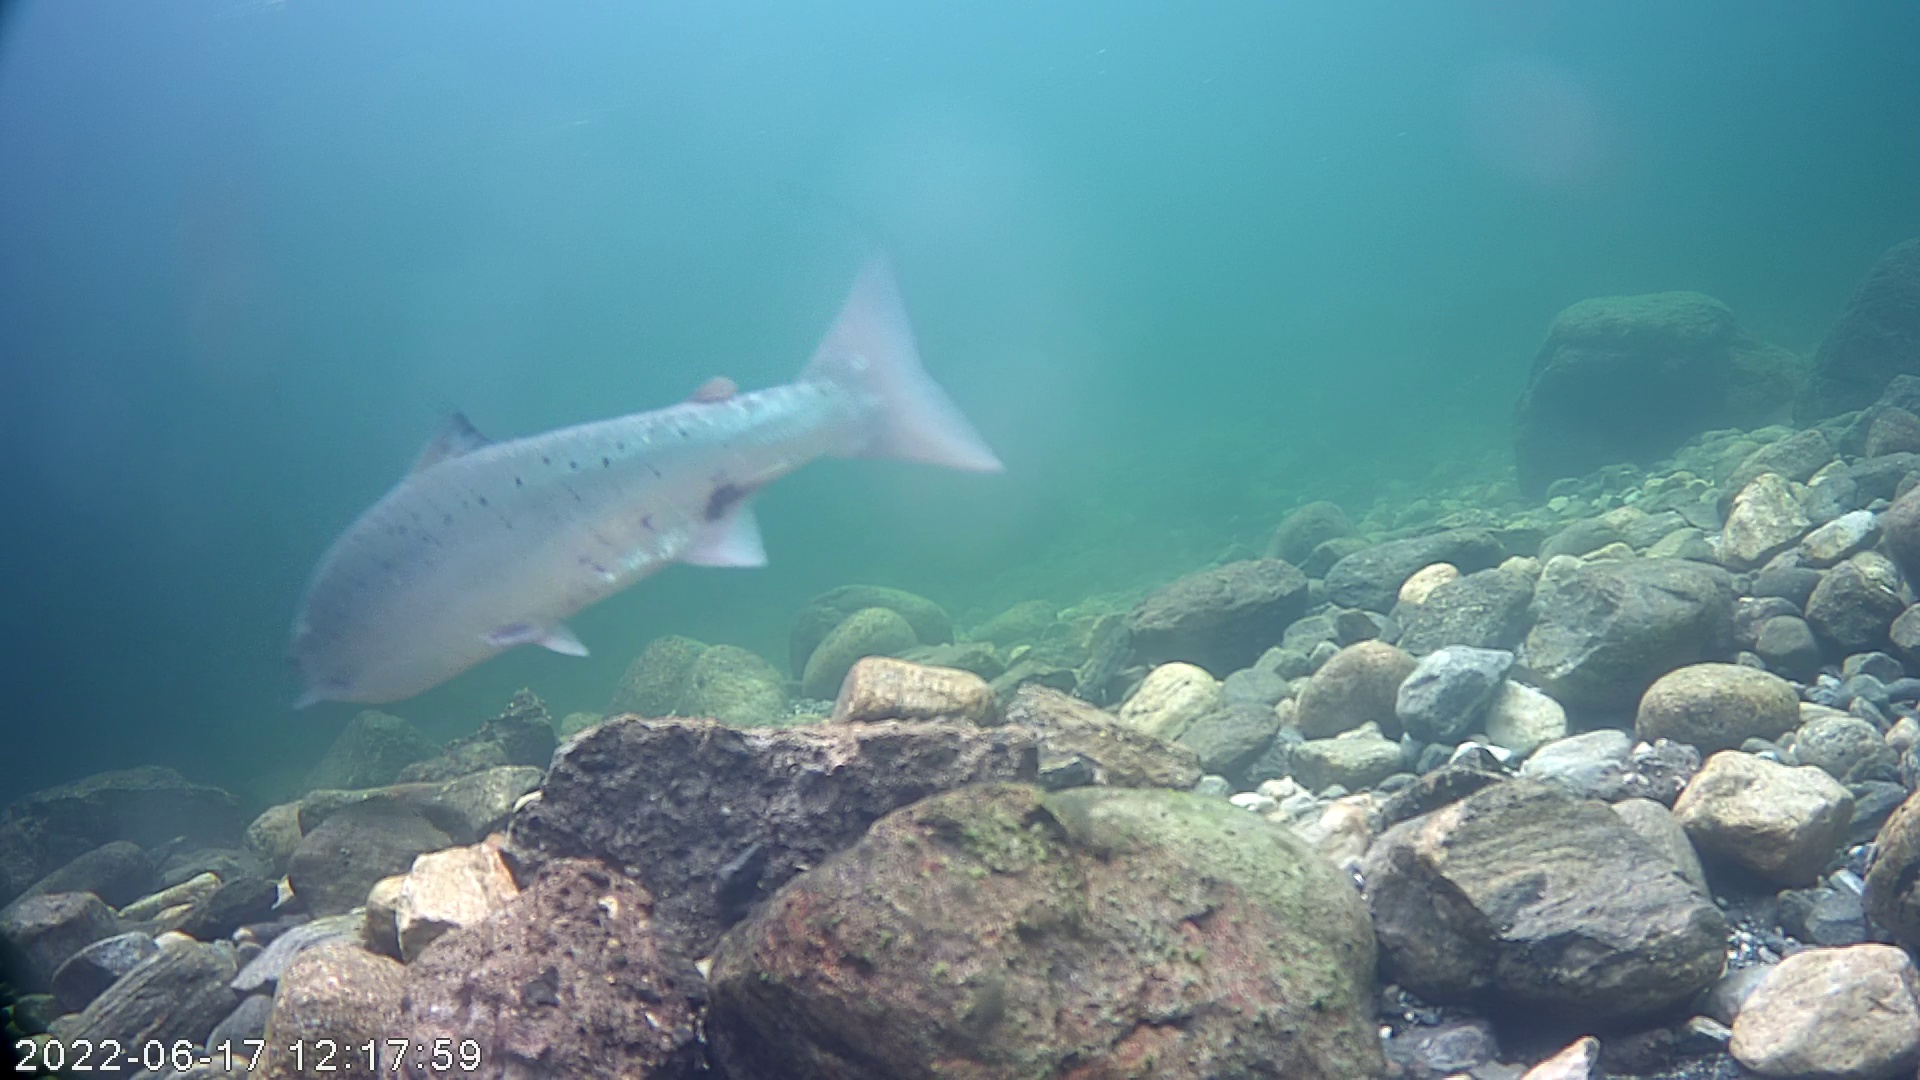salmon: (272, 244, 1010, 709)
